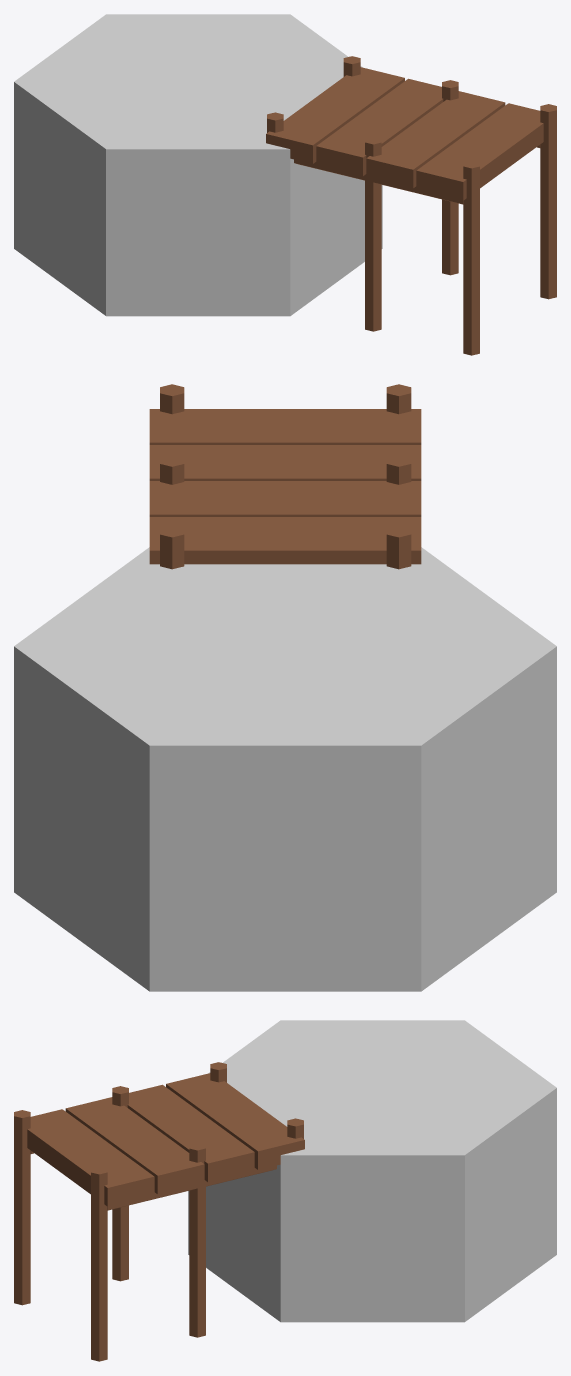
Rendered from dock_example.glb.
The picture shows the model from 3 angles, top to bottom: view 1: azimuth 30°, elevation 25°; view 2: azimuth 150°, elevation 25°; view 3: azimuth 270°, elevation 25°; orthographic projection. The views are drawn at different scales.
Parts seen in each view (by area): view 1: base, Cube, Cylinder.001, Cylinder.002; view 2: base, Cube, Cylinder.001; view 3: base, Cube, Cylinder.001, Cylinder.002.
Boxes of the visible parts, left/top/right/bottom form: base: left=14, top=14, right=382, bottom=316; Cube: left=266, top=67, right=543, bottom=200; Cylinder.001: left=267, top=56, right=556, bottom=355; Cylinder.002: left=294, top=145, right=540, bottom=204; base: left=14, top=547, right=556, bottom=991; Cube: left=149, top=409, right=421, bottom=564; Cylinder.001: left=160, top=384, right=411, bottom=569; base: left=188, top=1020, right=556, bottom=1322; Cube: left=27, top=1073, right=304, bottom=1206; Cylinder.001: left=14, top=1062, right=303, bottom=1361; Cylinder.002: left=30, top=1151, right=276, bottom=1210.
Size of the model in its own units: 4.55 by 2.26 by 5.89.
